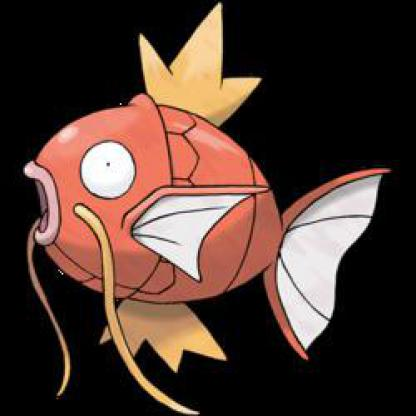Magikarp: (1, 1, 404, 397)
